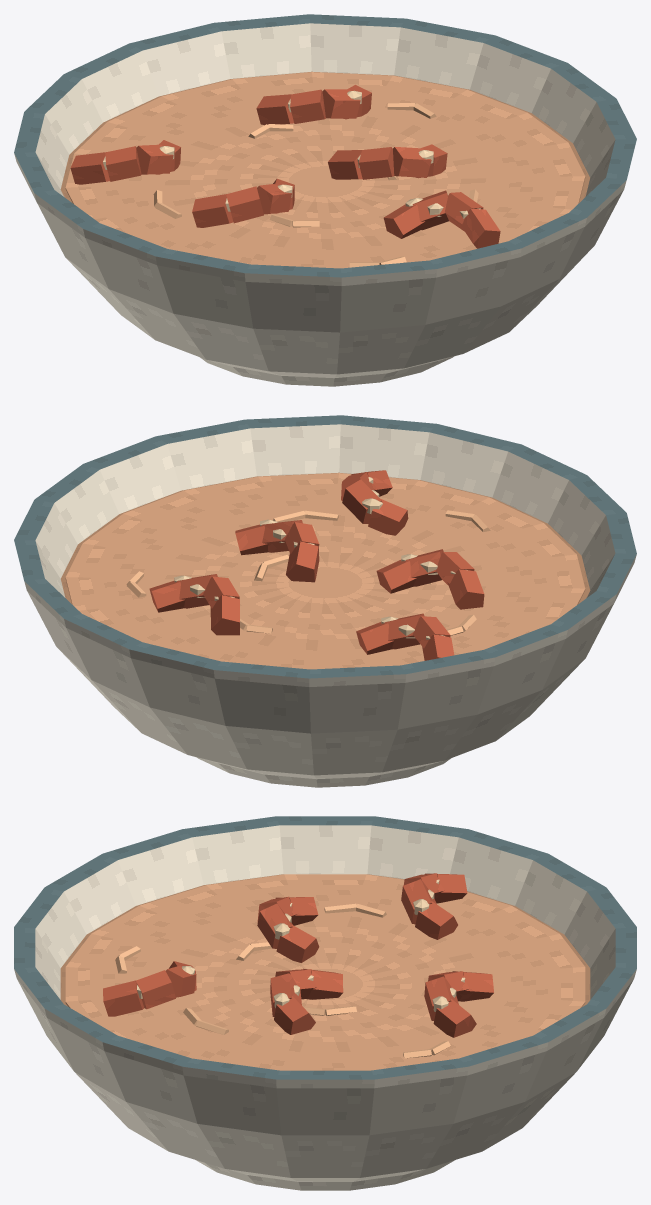
File: soup_lobsterstew.glb
3 views of the same model, one above another, from view 1: azimuth 30°, elevation 25°; view 2: azimuth 150°, elevation 25°; view 3: azimuth 270°, elevation 25° (orthographic).
Parts seen in each view (by area): view 1: block_deep open soup bowl, block_soup surface, block_curved pink lobster meat 0 (×5), block_curved pink lobster meat 1 (×5), block_curved pink lobster meat 2 (×5), block_shaded liquid meniscus, block_curved pink lobster meat 3; view 2: block_deep open soup bowl, block_soup surface, block_curved pink lobster meat 3 (×5), block_curved pink lobster meat 0 (×4), block_curved pink lobster meat 2 (×5), block_curved pink lobster meat 1 (×4), block_shaded liquid meniscus; view 3: block_deep open soup bowl, block_soup surface, block_curved pink lobster meat 3 (×4), block_curved pink lobster meat 0 (×5), block_curved pink lobster meat 2 (×5), block_curved pink lobster meat 1 (×2), block_shaded liquid meniscus.
Part boxes in pixels (x1=…): block_deep open soup bowl: x1=14, y1=14, x2=636, y2=386; block_soup surface: x1=65, y1=72, x2=585, y2=268; block_curved pink lobster meat 0 (×5): x1=70, y1=94, x2=500, y2=248; block_curved pink lobster meat 1 (×5): x1=105, y1=89, x2=483, y2=231; block_curved pink lobster meat 2 (×5): x1=136, y1=89, x2=448, y2=230; block_shaded liquid meniscus: x1=60, y1=71, x2=589, y2=202; block_curved pink lobster meat 3: x1=383, y1=204, x2=425, y2=238; block_deep open soup bowl: x1=14, y1=415, x2=636, y2=787; block_soup surface: x1=65, y1=473, x2=585, y2=669; block_curved pink lobster meat 3 (×5): x1=149, y1=499, x2=416, y2=654; block_curved pink lobster meat 0 (×4): x1=210, y1=541, x2=484, y2=660; block_curved pink lobster meat 2 (×5): x1=177, y1=479, x2=443, y2=649; block_curved pink lobster meat 1 (×4): x1=203, y1=522, x2=474, y2=648; block_shaded liquid meniscus: x1=61, y1=472, x2=590, y2=603; block_deep open soup bowl: x1=14, y1=816, x2=636, y2=1190; block_soup surface: x1=65, y1=874, x2=585, y2=1070; block_curved pink lobster meat 3 (×4): x1=274, y1=901, x2=476, y2=1037; block_curved pink lobster meat 0 (×5): x1=103, y1=873, x2=493, y2=1016; block_curved pink lobster meat 2 (×5): x1=165, y1=879, x2=458, y2=1020; block_curved pink lobster meat 1 (×2): x1=135, y1=969, x2=316, y2=1009; block_shaded liquid meniscus: x1=60, y1=874, x2=590, y2=1006.
Bounding box in the file's own units: 0.1437 × 0.0455 × 0.1437.
1 material, 1 textured.
